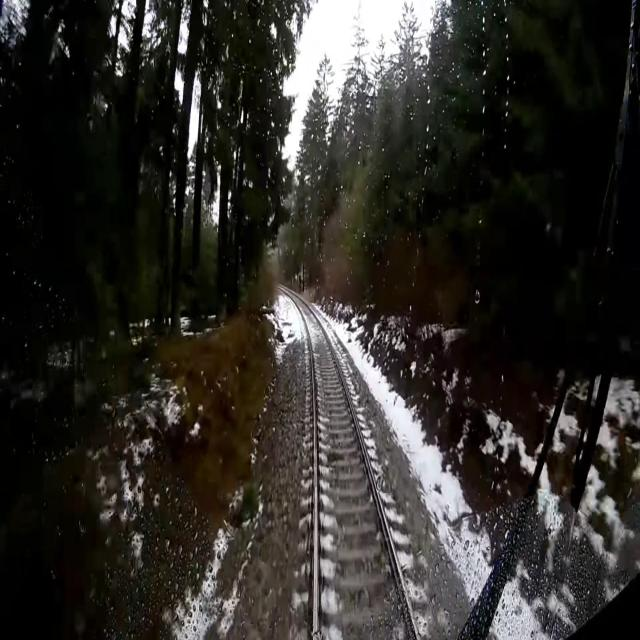rail-track: (290, 293, 416, 639)
